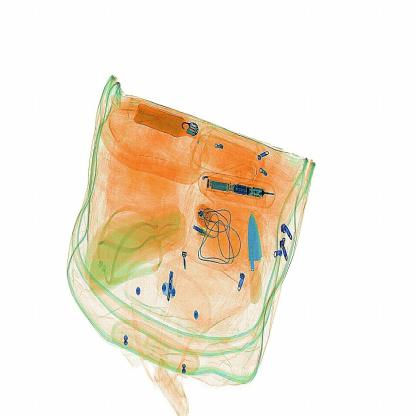wrench: (245, 209, 264, 304)
